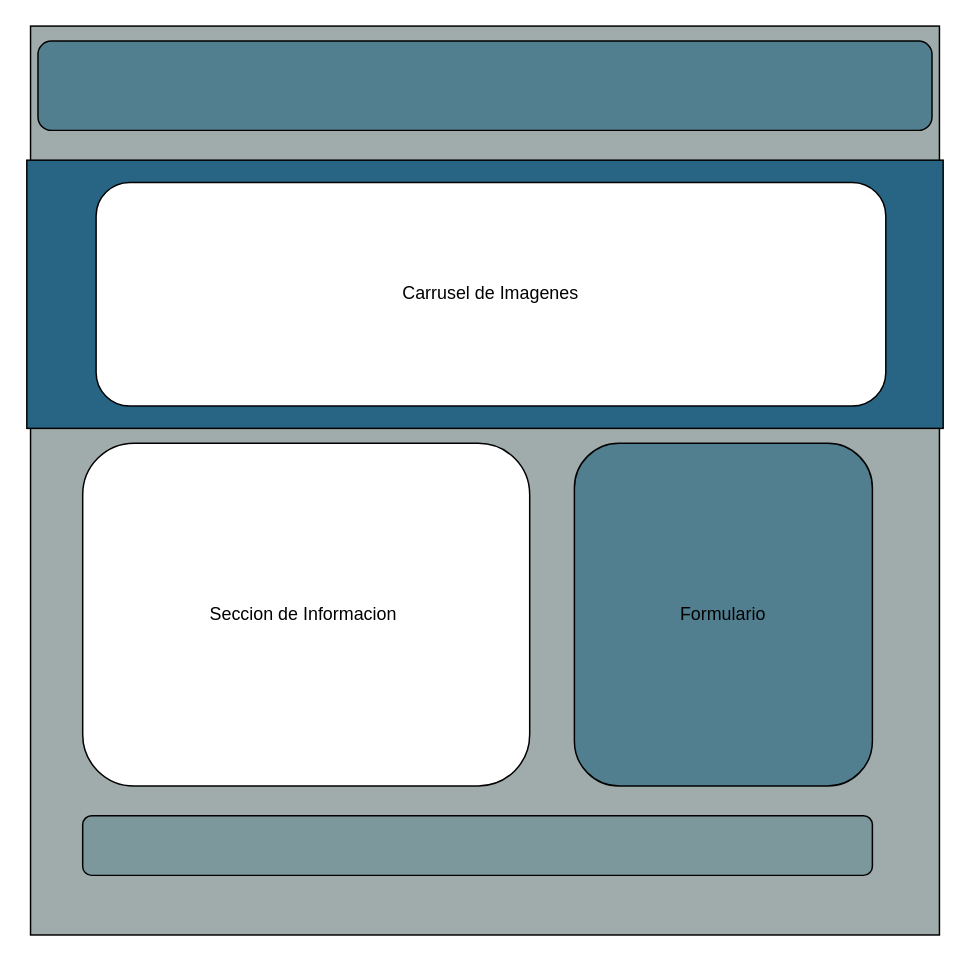
Some shapes in this 969 by 961 pixel diagram are drawn without their labels. The shapes that lost their labels are listed below. From the top down, each one's box as (x1, y1, x2, y2) in pixels, then its label:
(37, 39, 932, 130): Log- Menu - Barra de Navegacion
(81, 814, 872, 875): Pie de pagina - Datos de contacto
